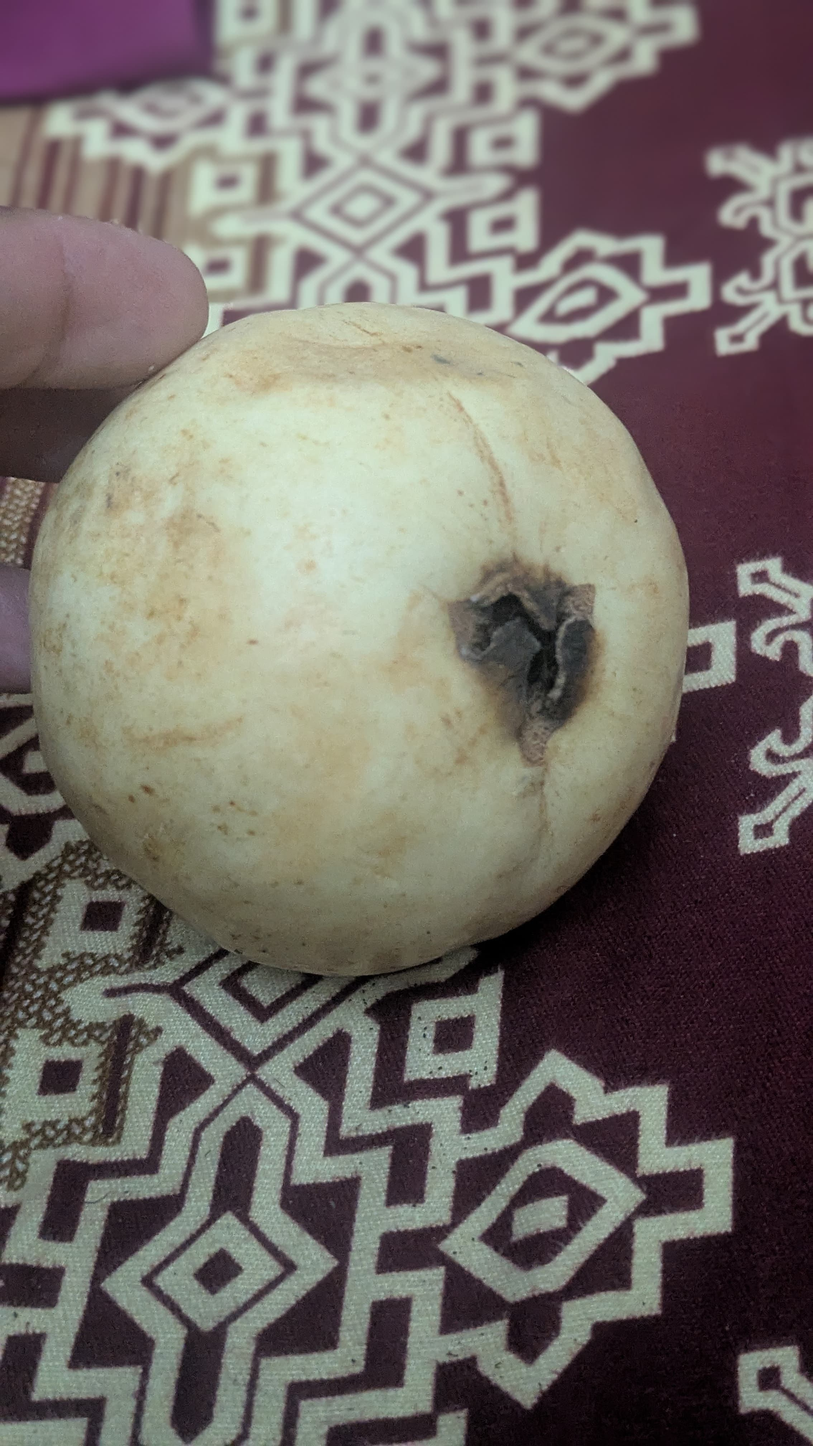guava: (118, 120, 813, 1333)
